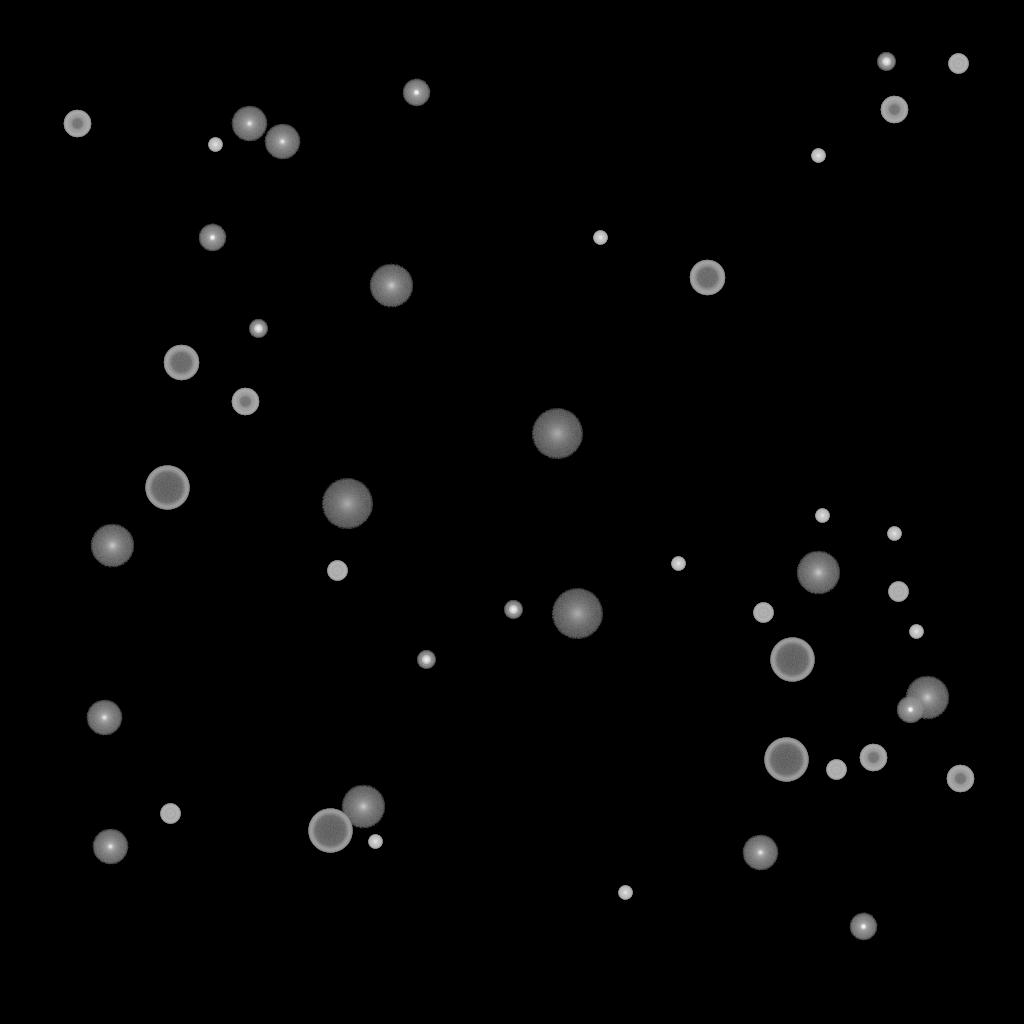depth:-10: (402, 79, 430, 107), (896, 696, 924, 724), (849, 913, 877, 941), (198, 224, 226, 252)
depth:-20: (417, 651, 435, 669), (504, 601, 522, 619), (249, 320, 267, 338), (877, 53, 895, 71)
depth:-30: (811, 149, 825, 163), (208, 138, 222, 152), (368, 835, 382, 849), (887, 527, 901, 541), (815, 509, 829, 523), (671, 557, 685, 571), (618, 886, 632, 900), (593, 231, 607, 245), (909, 625, 923, 639)
depth:-40: (888, 582, 908, 602), (948, 54, 968, 74), (160, 804, 180, 824), (753, 603, 773, 623), (327, 561, 347, 581), (826, 760, 846, 780)
depth:-50: (859, 744, 887, 772), (946, 765, 974, 793), (880, 96, 908, 124), (231, 388, 259, 416), (63, 110, 91, 138)
depth:-60: (163, 345, 199, 381), (689, 260, 725, 296)
depth:-70: (770, 638, 814, 682), (764, 738, 808, 782), (308, 809, 352, 853), (145, 466, 189, 510)
depth:0: (86, 700, 122, 736), (742, 835, 778, 871), (231, 106, 267, 142), (92, 829, 128, 865), (264, 124, 300, 160)
depth:10: (341, 785, 385, 829), (905, 676, 949, 720), (90, 524, 134, 568), (796, 551, 840, 595), (369, 264, 413, 308)
depth:20: (531, 409, 583, 459), (321, 479, 373, 529), (551, 589, 603, 639)
